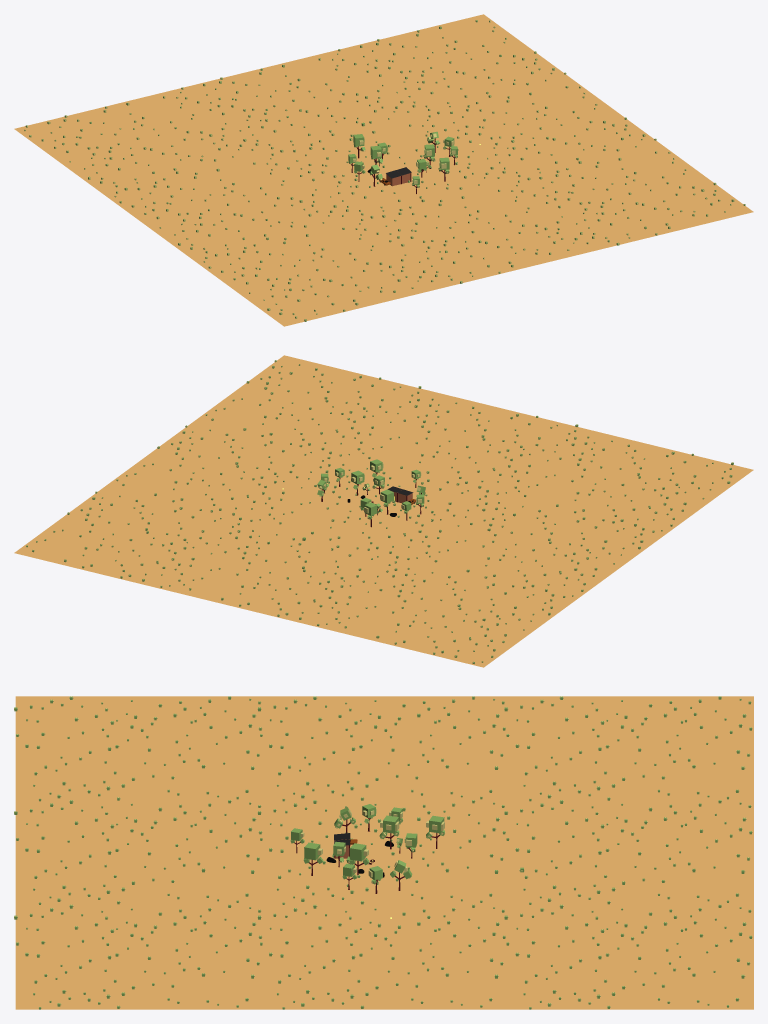
Rendered from house.gltf.
3 renders of one model, top to bottom at view 1: azimuth 30°, elevation 25°; view 2: azimuth 150°, elevation 25°; view 3: azimuth 270°, elevation 25°, orthographic. The views are drawn at different scales.
Visible parts, largest first — view 1: Ground.007, Ground.004, Ground.005, Ground.008, Ground.002, Ground.006, Ground.001, Ground.003, Ground; view 2: Ground.008, Ground.005, Ground.004, Ground.006, Ground.002, Ground.007, Ground.003, Ground.001, Ground; view 3: Ground.006, Ground.003, Ground.008, Ground.005, Ground.007, Ground.004, Ground.001, Ground.002, Ground.
Part boxes in pixels (<box>): Ground.007: <box>194,222,440,326</box>; Ground.004: <box>507,145,753,250</box>; Ground.005: <box>327,14,573,118</box>; Ground.008: <box>14,90,260,194</box>; Ground.002: <box>171,52,416,156</box>; Ground.006: <box>105,156,351,260</box>; Ground.001: <box>352,184,596,288</box>; Ground.003: <box>417,80,662,183</box>; Ground: <box>262,119,505,222</box>; Ground.008: <box>327,563,573,667</box>; Ground.005: <box>14,486,260,591</box>; Ground.004: <box>194,355,440,459</box>; Ground.006: <box>417,497,664,601</box>; Ground.002: <box>171,525,416,629</box>; Ground.007: <box>508,431,753,534</box>; Ground.003: <box>105,421,349,524</box>; Ground.001: <box>351,393,596,496</box>; Ground: <box>261,459,507,563</box>; Ground.006: <box>259,696,507,800</box>; Ground.003: <box>259,905,507,1009</box>; Ground.008: <box>506,696,753,800</box>; Ground.005: <box>506,905,753,1009</box>; Ground.007: <box>15,696,263,800</box>; Ground.004: <box>15,905,263,1009</box>; Ground.001: <box>15,801,263,904</box>; Ground.002: <box>506,801,753,904</box>; Ground: <box>259,801,507,904</box>.
Size of the model in its own units: 50.92 by 2.98 by 50.81.
